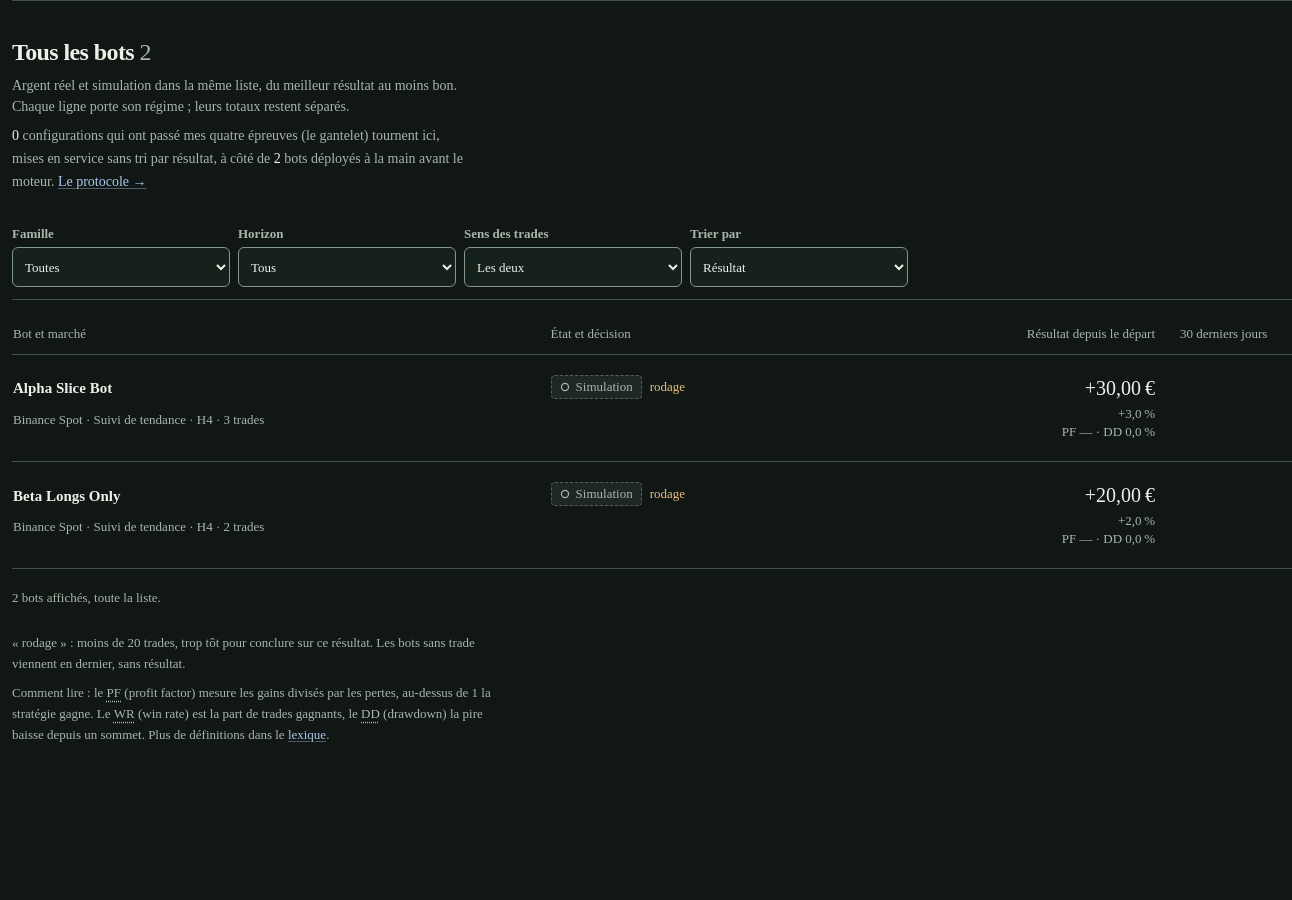
Test: FleetRegister — side slice › shows server stats by default and the short slice after clicking « Short »
Expected: the text "3 trades" is shown, [224, 412, 264, 427]
Select "Short (1)" in the dropdown labelled "Sens des trades" at (573, 267), box [464, 247, 682, 287]
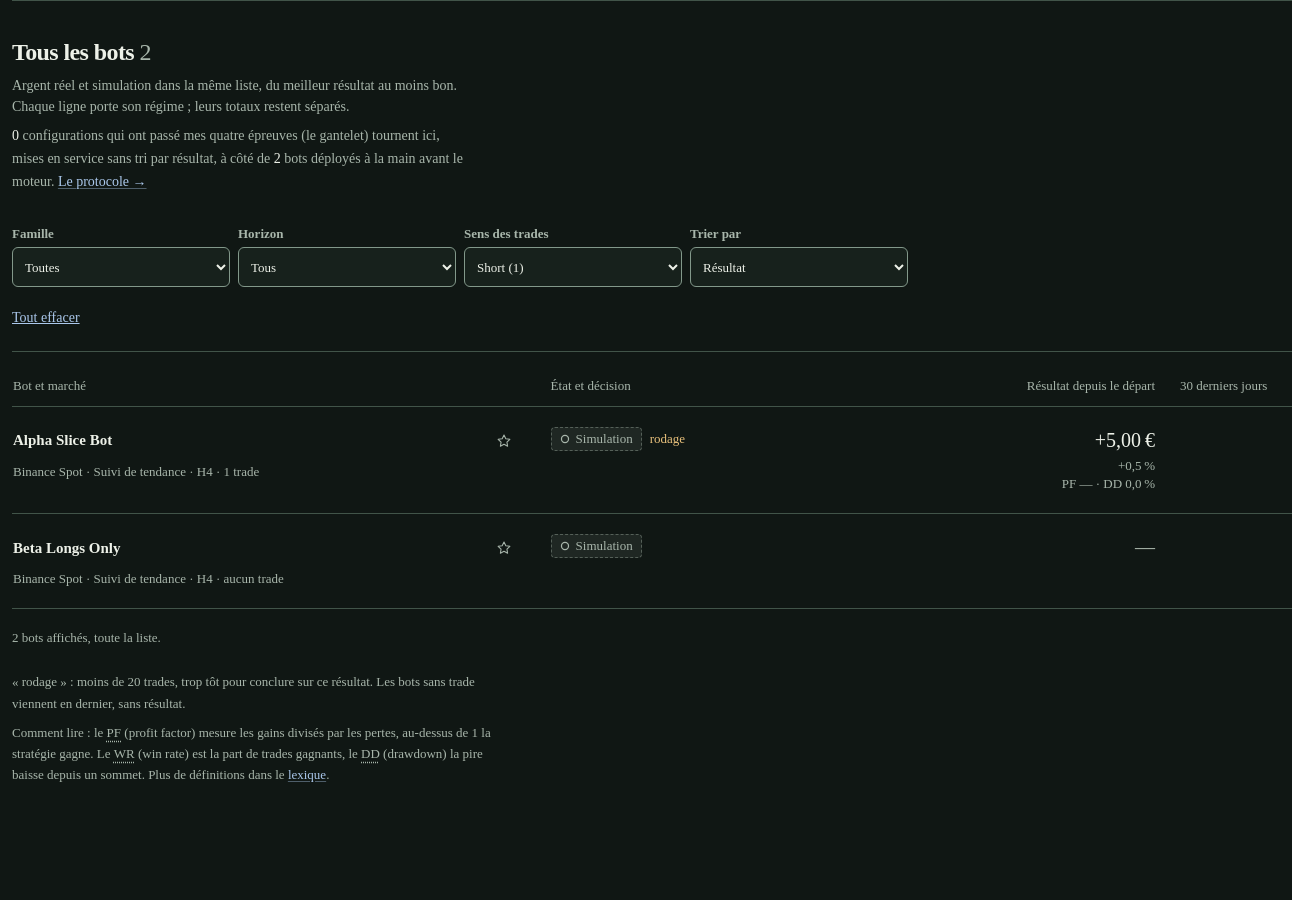
Expected: the text "Beta Longs Only" is shown, [13, 526, 120, 570]
Now the text "1 trade" is shown, box [224, 464, 259, 479]
